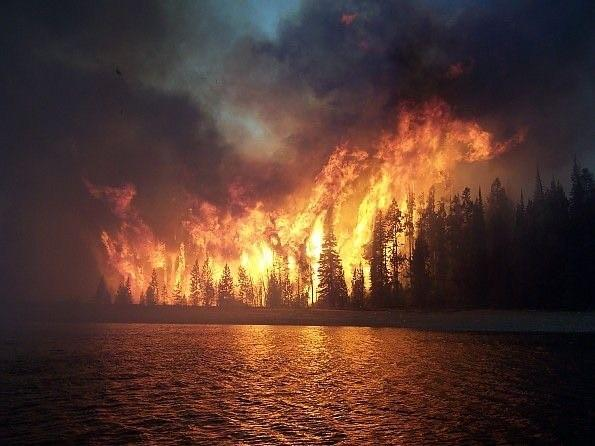fire: (311, 122, 501, 308), (89, 211, 404, 319)
